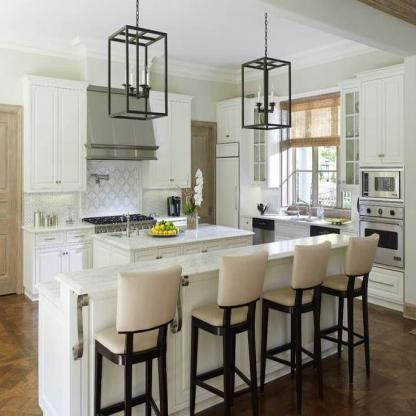chair: (90, 259, 187, 416), (188, 237, 271, 416), (263, 223, 332, 415), (327, 227, 379, 387)
door: (0, 100, 21, 297)
light: (105, 0, 172, 122), (233, 9, 299, 131)
table: (73, 239, 354, 416), (65, 229, 354, 292), (95, 224, 254, 262)
